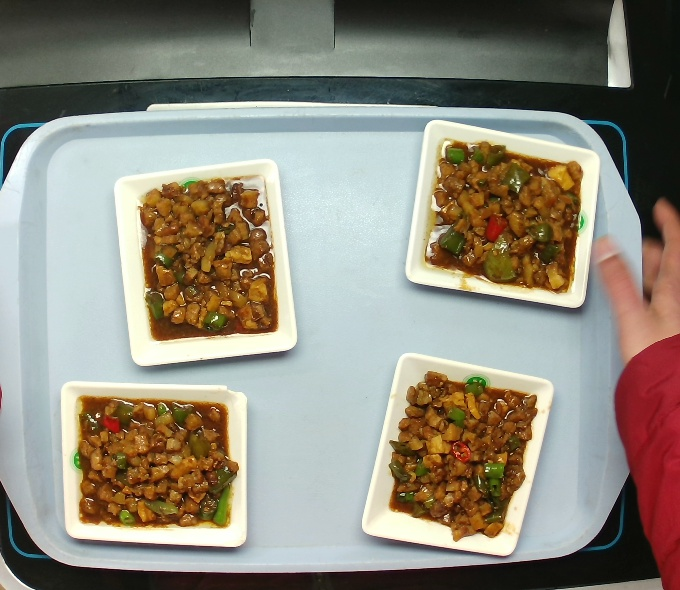wcq-XiaoJiangRou: (388, 370, 539, 543), (424, 141, 585, 295), (137, 177, 279, 342), (73, 395, 240, 529)
